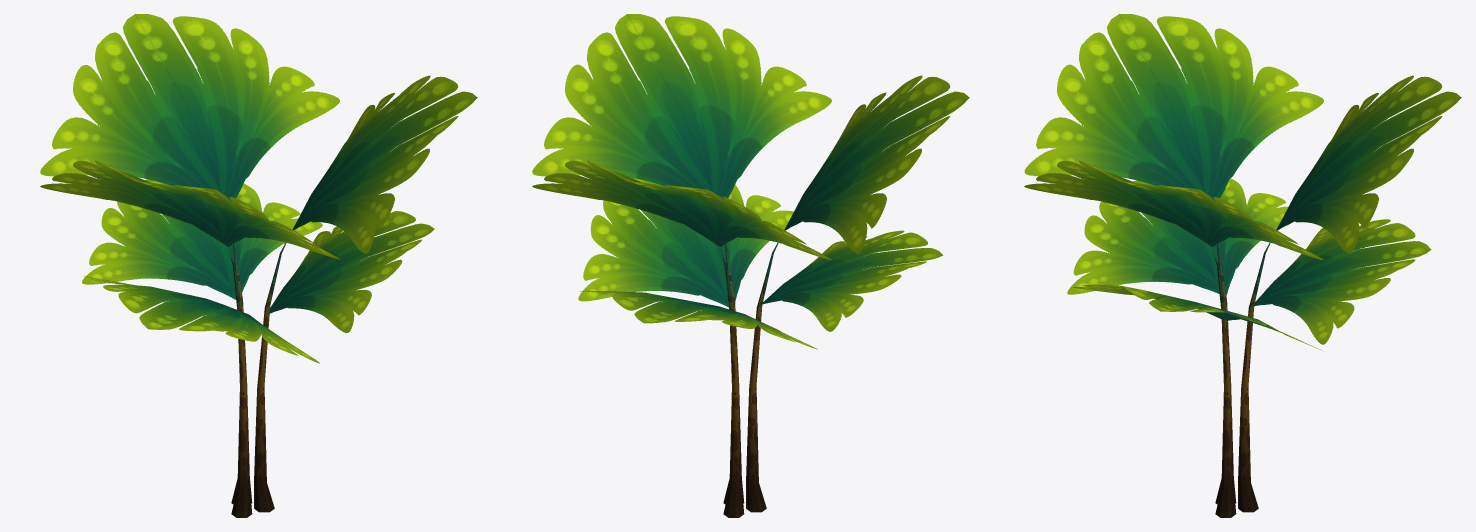
The model's file is Green_Tree_07a.FBX.
The picture shows the model from 3 angles, left to right: view 1: azimuth 30°, elevation 25°; view 2: azimuth 150°, elevation 25°; view 3: azimuth 270°, elevation 25°; orthographic projection.
Visible parts, largest first — view 1: Green_Tree_07a; view 2: Green_Tree_07a; view 3: Green_Tree_07a.
Part boxes in pixels (bbox=[...]): Green_Tree_07a: bbox=[40, 14, 477, 517]; Green_Tree_07a: bbox=[532, 14, 969, 517]; Green_Tree_07a: bbox=[1024, 14, 1461, 517].
Bounding box in the file's own units: 181 × 199 × 203.
